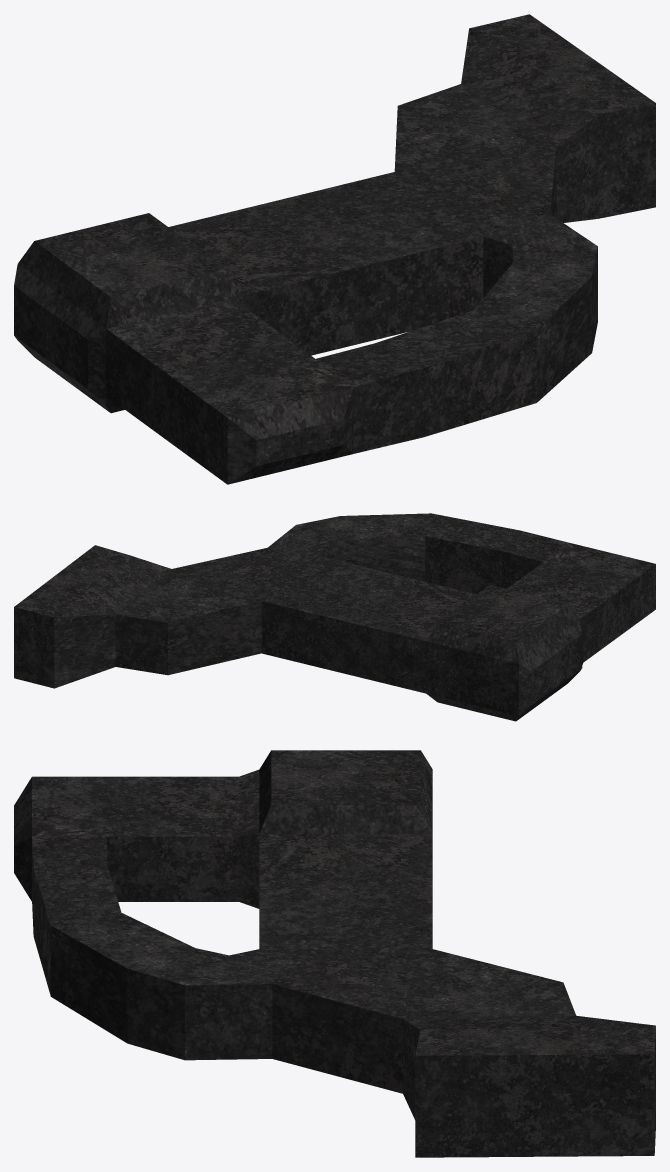
The model's file is generic_stock.fbx.
3 renders of one model, top to bottom at view 1: azimuth 30°, elevation 25°; view 2: azimuth 150°, elevation 25°; view 3: azimuth 270°, elevation 25°, orthographic. The views are drawn at different scales.
Parts seen in each view (by area): view 1: Generic_ stock; view 2: Generic_ stock; view 3: Generic_ stock.
Boxes of the visible parts, box(x1,y1,x2,y2) form: Generic_ stock: box(14, 14, 655, 484); Generic_ stock: box(14, 513, 655, 721); Generic_ stock: box(14, 750, 655, 1157).
Bounding box in the file's own units: 150 × 26.02 × 133.
